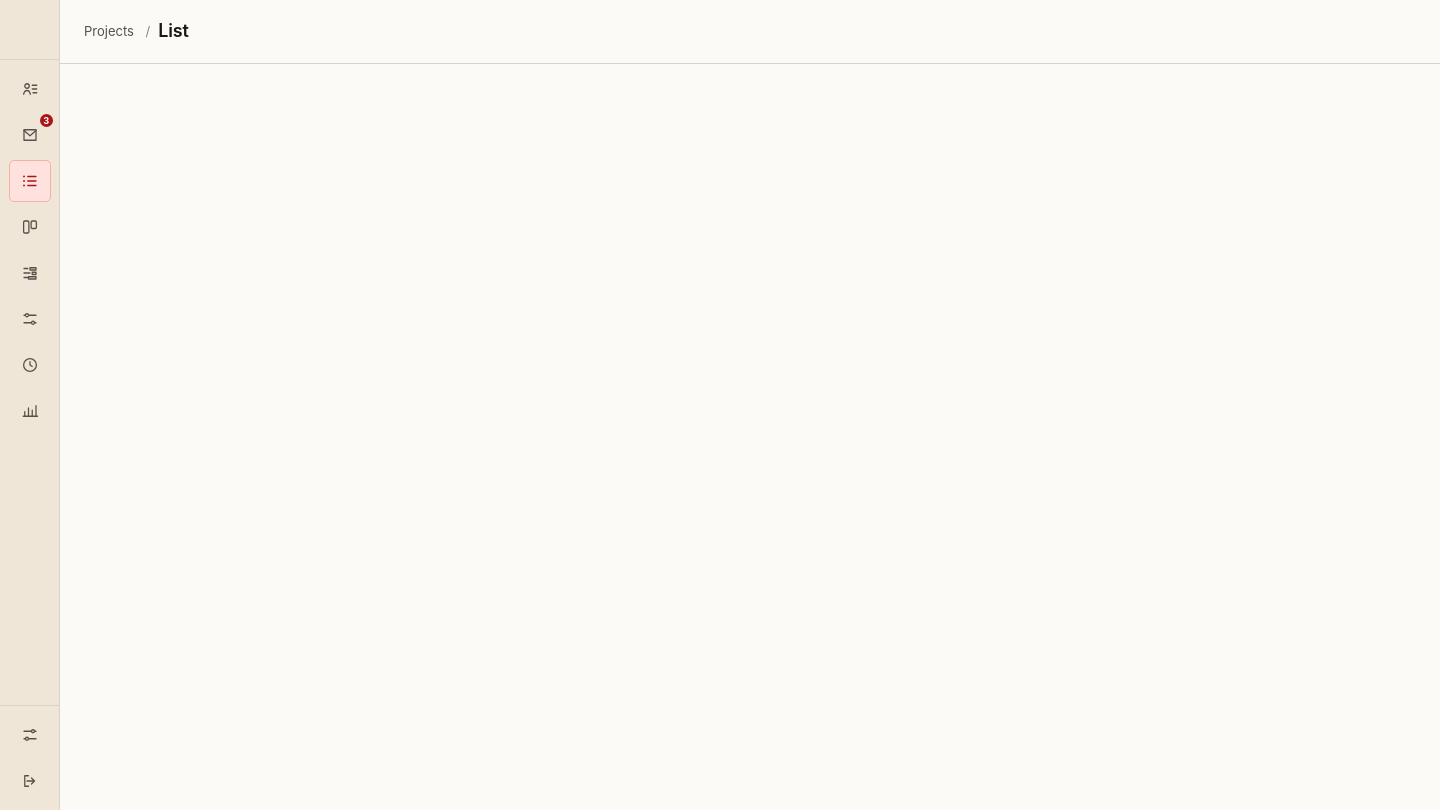
Test: Shell › surfaces sign-out failures
The image size is (1440, 810).
Click the button named "Sign out".
click(30, 781)  # box top-left (8, 760), bottom-right (50, 802)
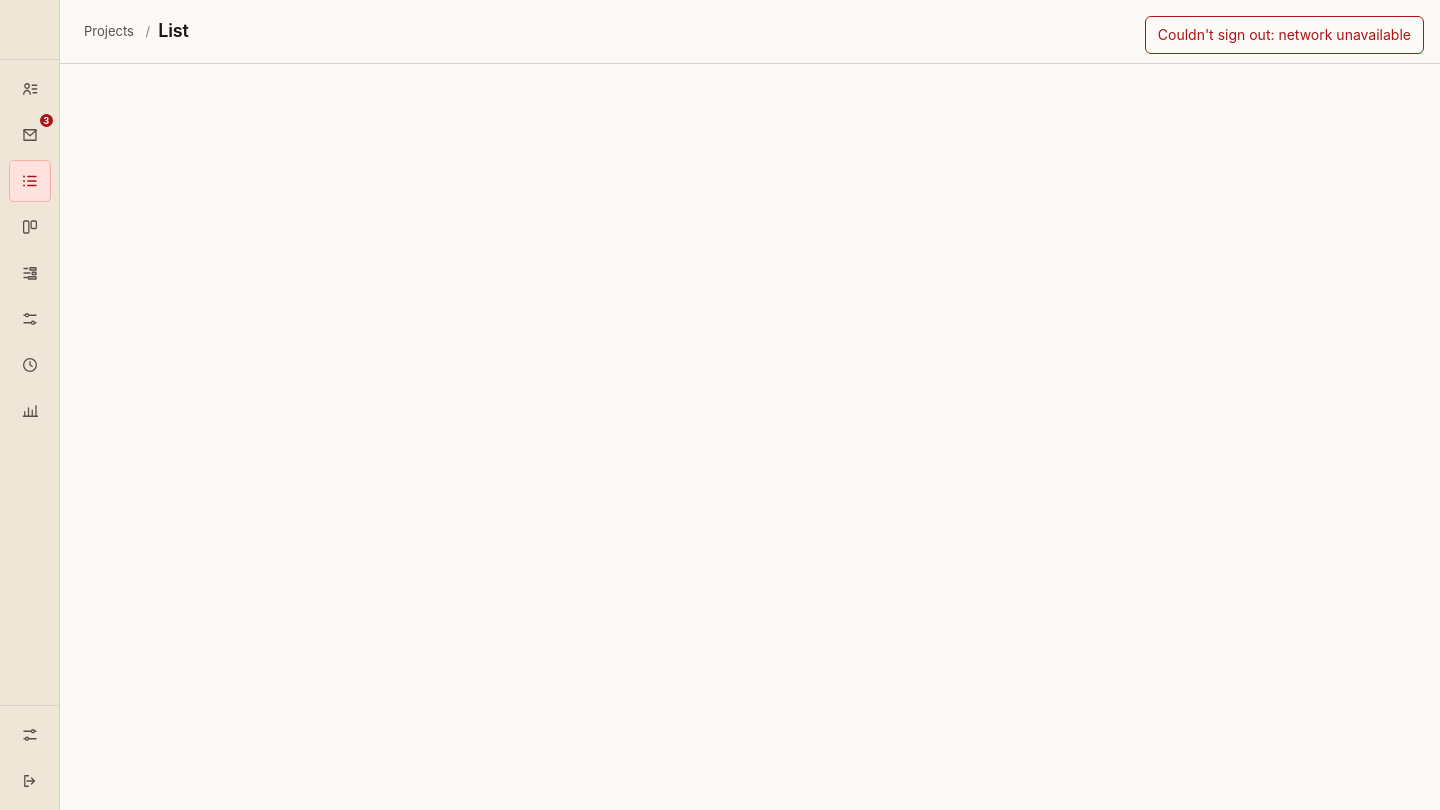
expect the message reads "Couldn't sign out: network unavailable": met, box top-left (1158, 26), bottom-right (1411, 43)
